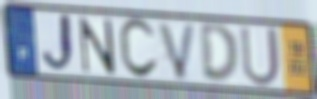C: (117, 16, 160, 82)
D: (198, 22, 241, 86)
J: (39, 11, 77, 76)
N: (77, 15, 117, 77)
U: (238, 24, 282, 89)
V: (156, 20, 198, 82)
